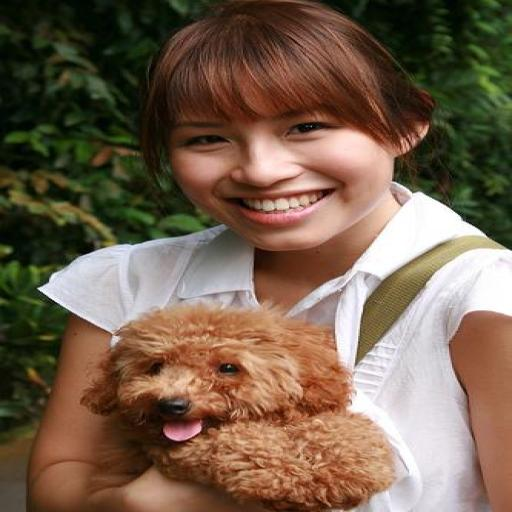dog_face: (88, 316, 355, 446)
